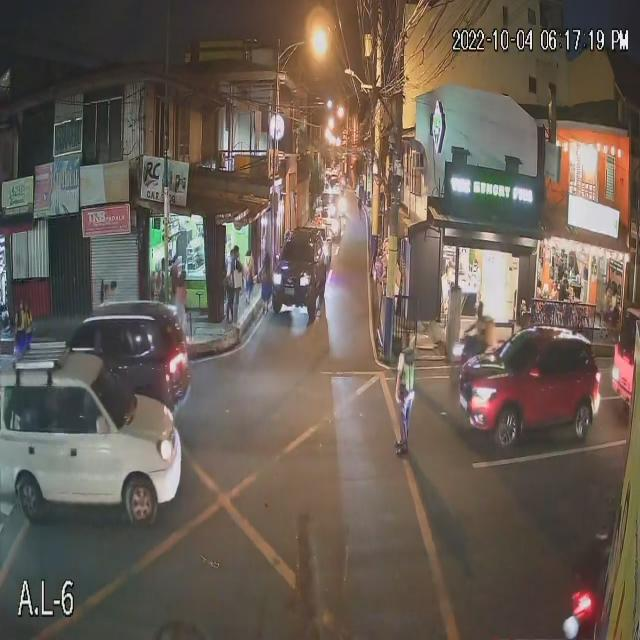motorcycle: (560, 568, 612, 639), (453, 343, 491, 373)
rider: (462, 314, 496, 358)
